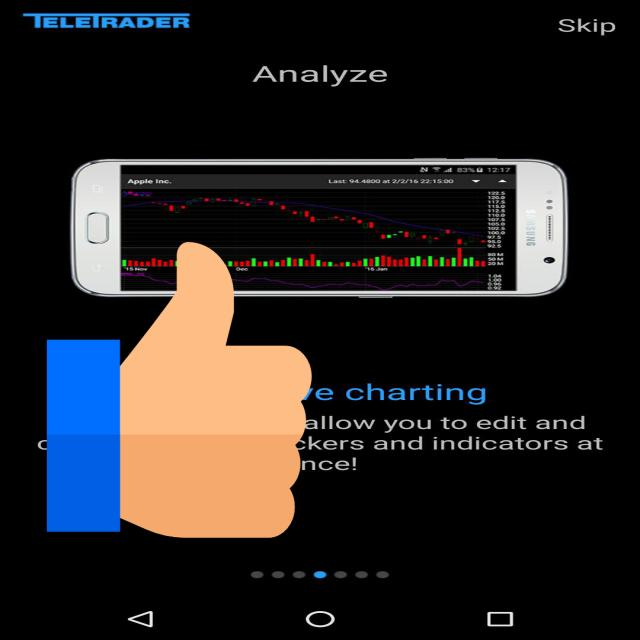privacy zuckering: (47, 235, 312, 545)
